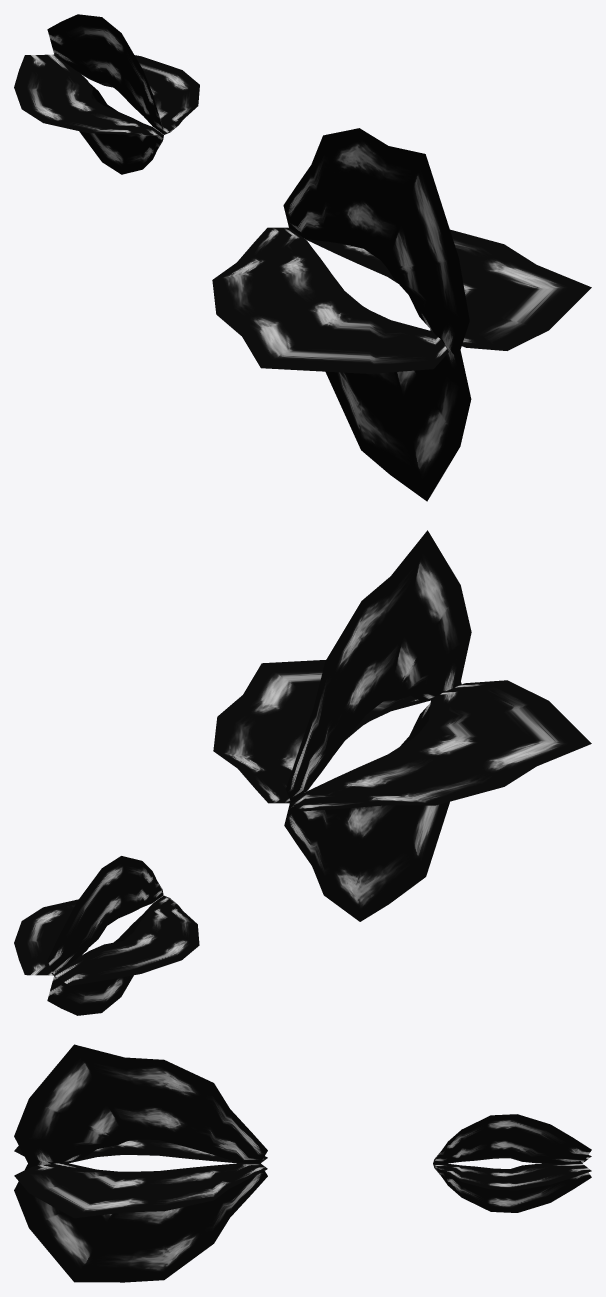
Rendered from xuelangzhizhang003.fbx.
The picture shows the model from 3 angles, top to bottom: view 1: azimuth 30°, elevation 25°; view 2: azimuth 150°, elevation 25°; view 3: azimuth 270°, elevation 25°; orthographic projection. The views are drawn at different scales.
Visible parts, largest first — view 1: xuelangzhizhang003; view 2: xuelangzhizhang003; view 3: xuelangzhizhang003.
Part boxes in pixels (x1,y1,x2,y2): xuelangzhizhang003: (14,14,591,501); xuelangzhizhang003: (14,530,591,1015); xuelangzhizhang003: (14,1044,591,1282).
Bounding box in the file's own units: 271 × 273 × 601.
